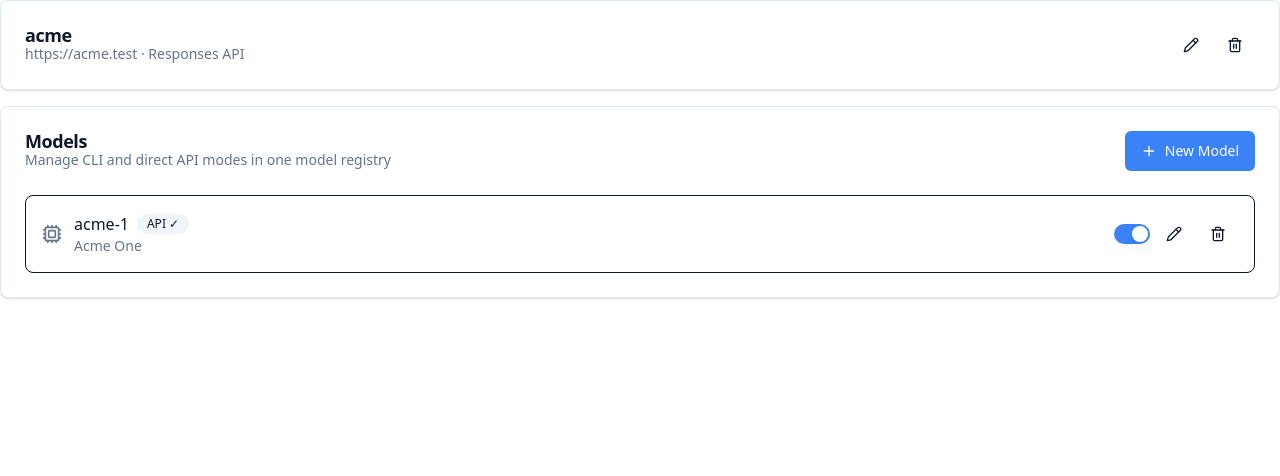
ModelsList › registered custom provider › editing the provider opens CustomProviderForm seeded with its values
This screenshot has width=1280, height=476.
Step 1. Click the 1st button → (1191,45), box [1171,25,1211,65]
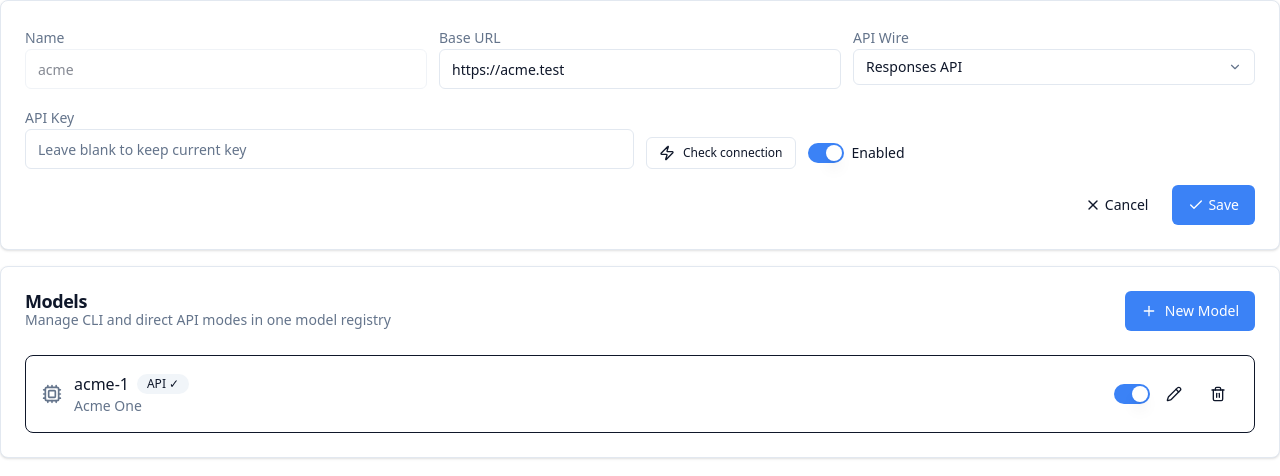
Result: the field showing "https://acme.test" below "Base URL" is shown at [439,49,841,89]
